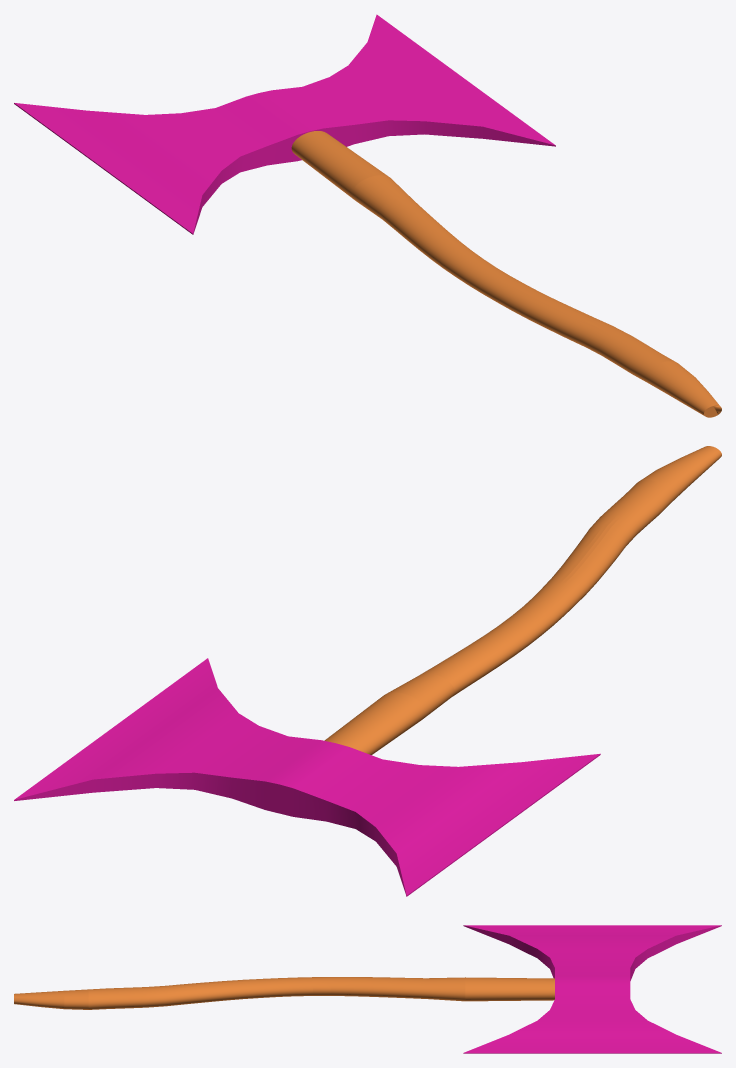
Rendered from double_axe.fbx.
The picture shows the model from 3 angles, top to bottom: view 1: azimuth 30°, elevation 25°; view 2: azimuth 150°, elevation 25°; view 3: azimuth 270°, elevation 25°; orthographic projection. The views are drawn at different scales.
Visible parts, largest first — view 1: metal, wood; view 2: metal, wood; view 3: metal, wood.
Boxes of the visible parts, x1=… form: metal: x1=14, y1=14, x2=555, y2=234; wood: x1=291, y1=131, x2=721, y2=417; metal: x1=14, y1=658, x2=600, y2=896; wood: x1=324, y1=446, x2=721, y2=754; metal: x1=463, y1=925, x2=721, y2=1053; wood: x1=14, y1=977, x2=554, y2=1009.
Size of the model in its own units: 805 by 57.92 by 1886.
